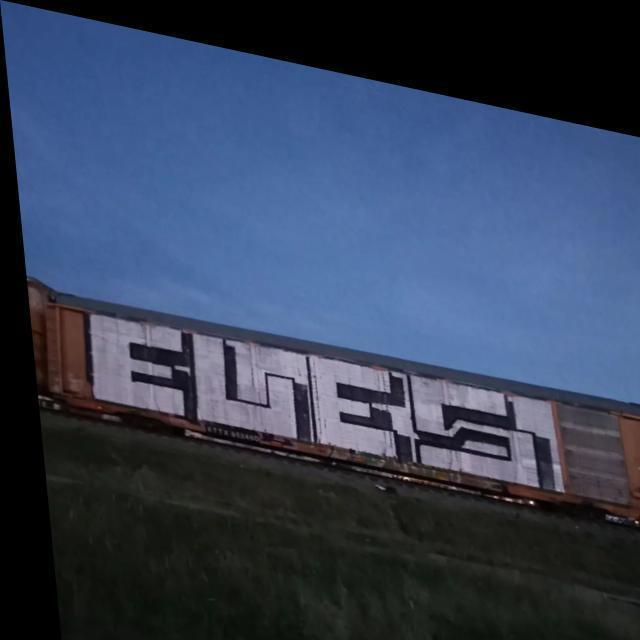nonspitting: (89, 306, 545, 492)
